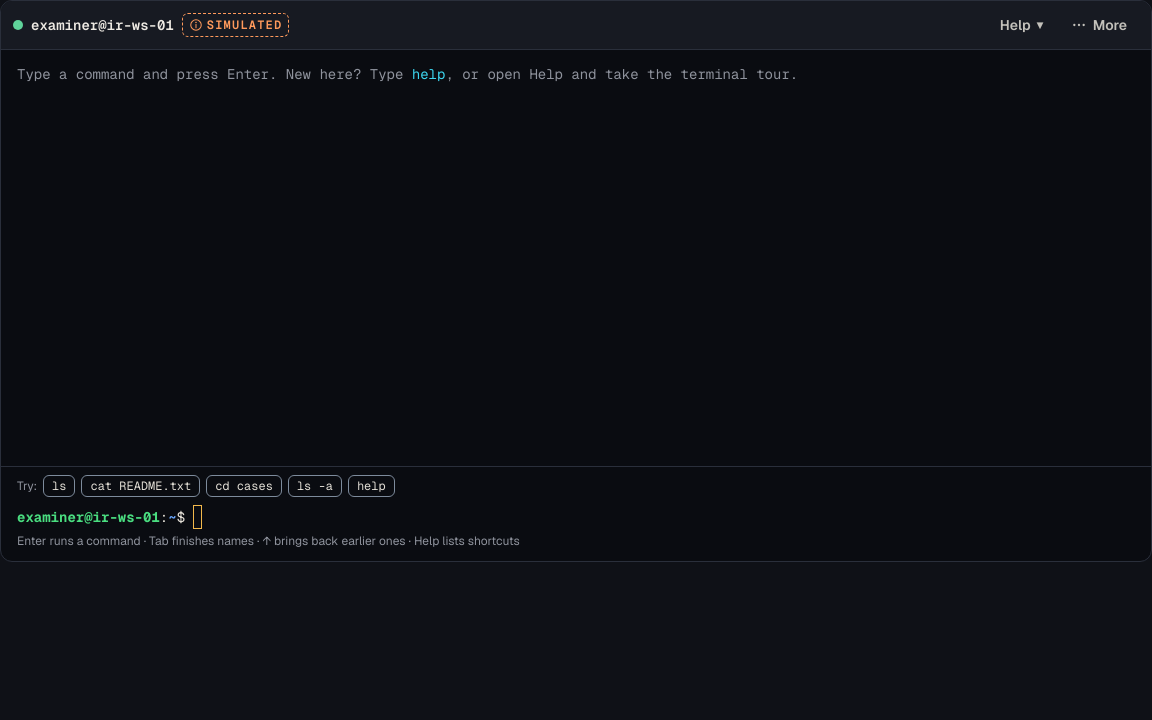
Test: Terminal › explains a mistake in plain words and suggests the command you meant
Type "sl" into the field named "Command, in" at (664, 517), box [193,505,1135,529]
Then press Enter
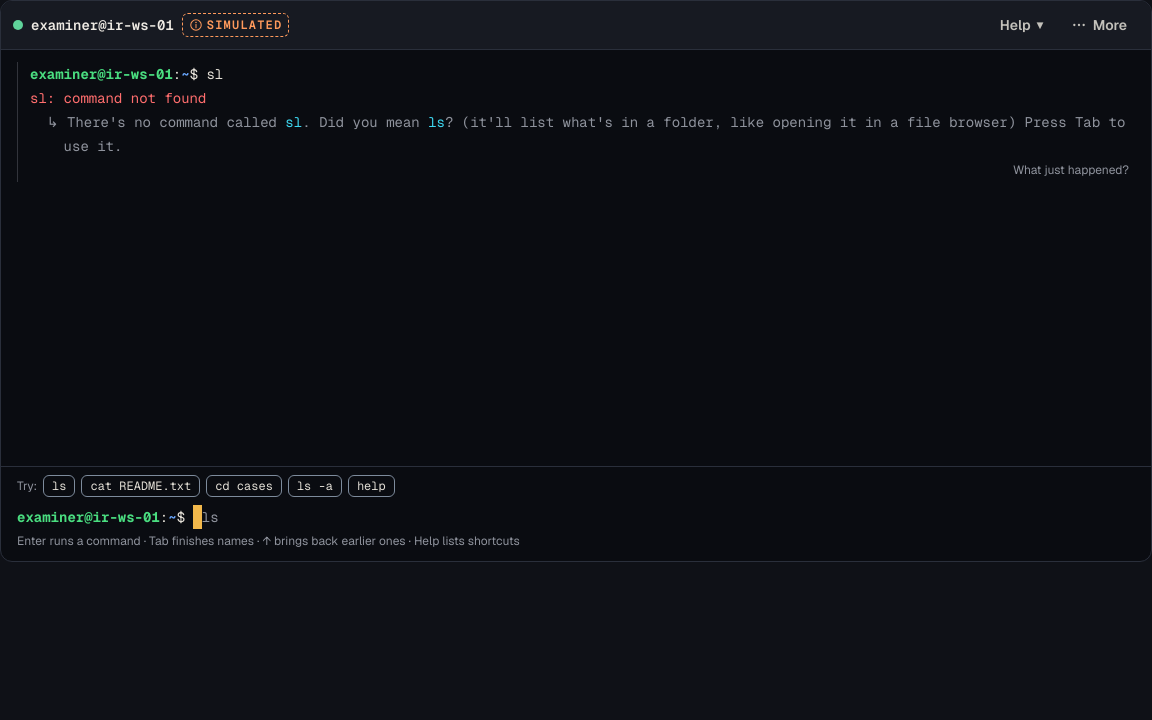
Now the element named "Command: sl" shows "command not found", box [30,89,206,107]
Now the element named "Command: sl" shows "Did you mean", box [302,113,428,131]
